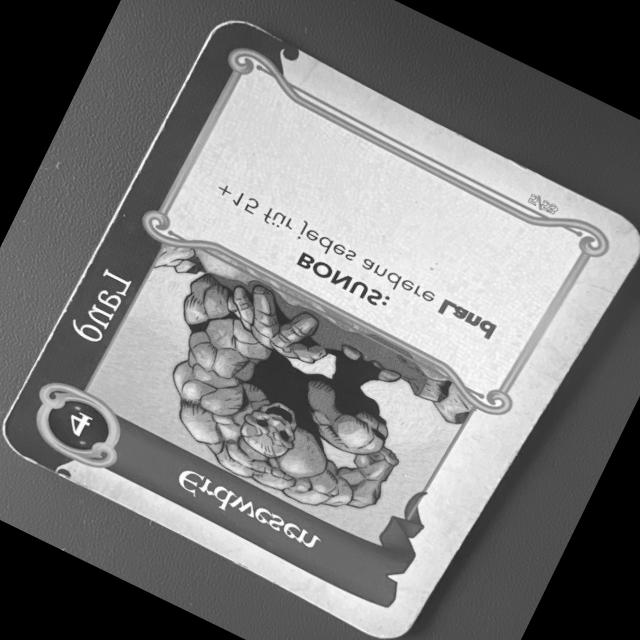Earth Elemental: (0, 6, 640, 640)
